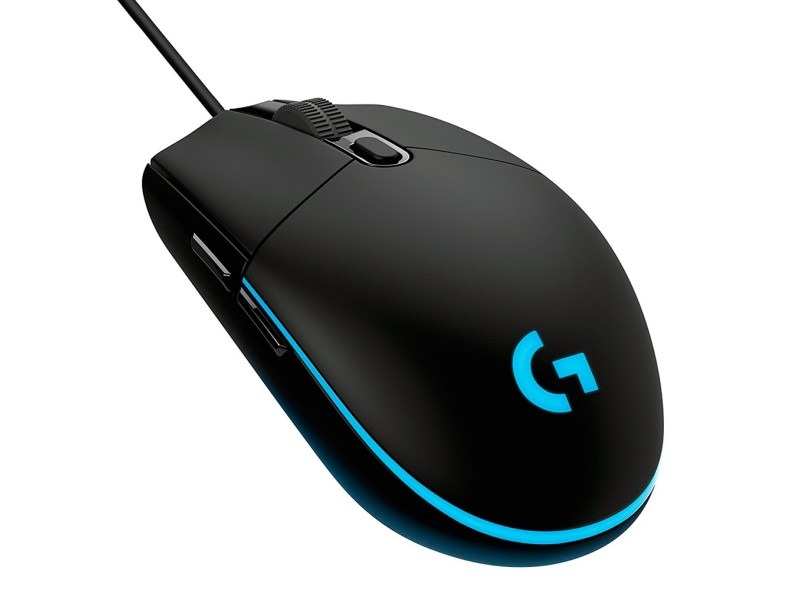mouse: (135, 87, 673, 570)
